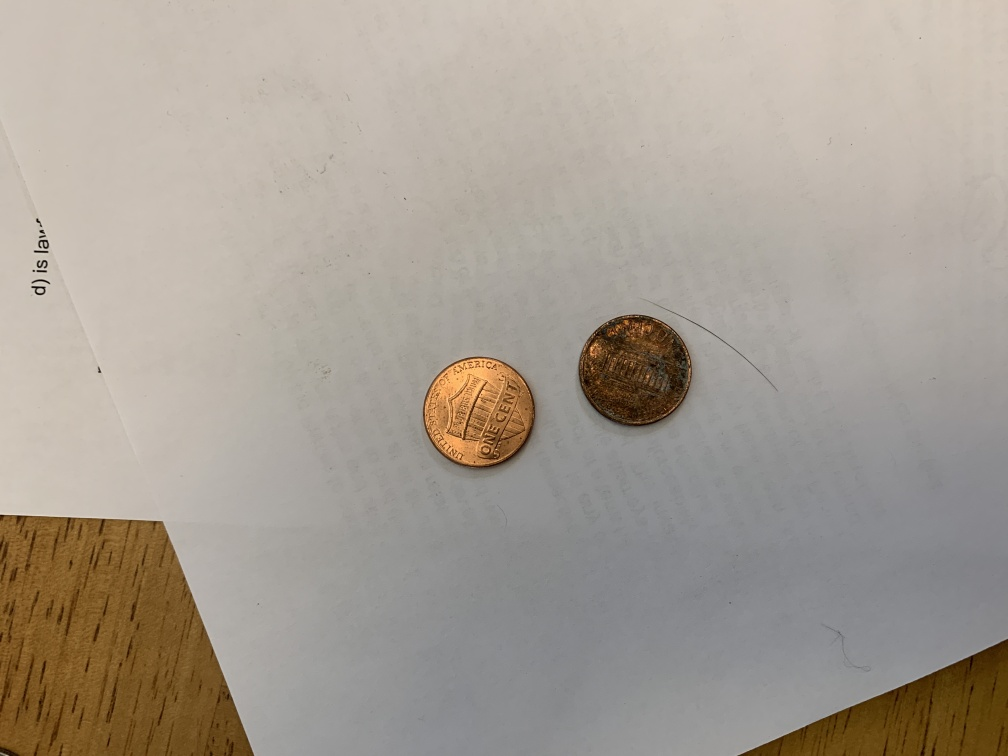penny: (572, 309, 696, 434), (421, 354, 539, 470)
